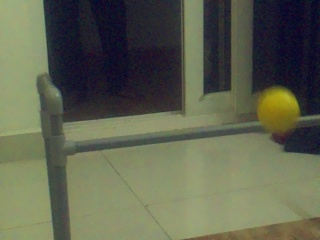ball: (257, 86, 300, 135)
